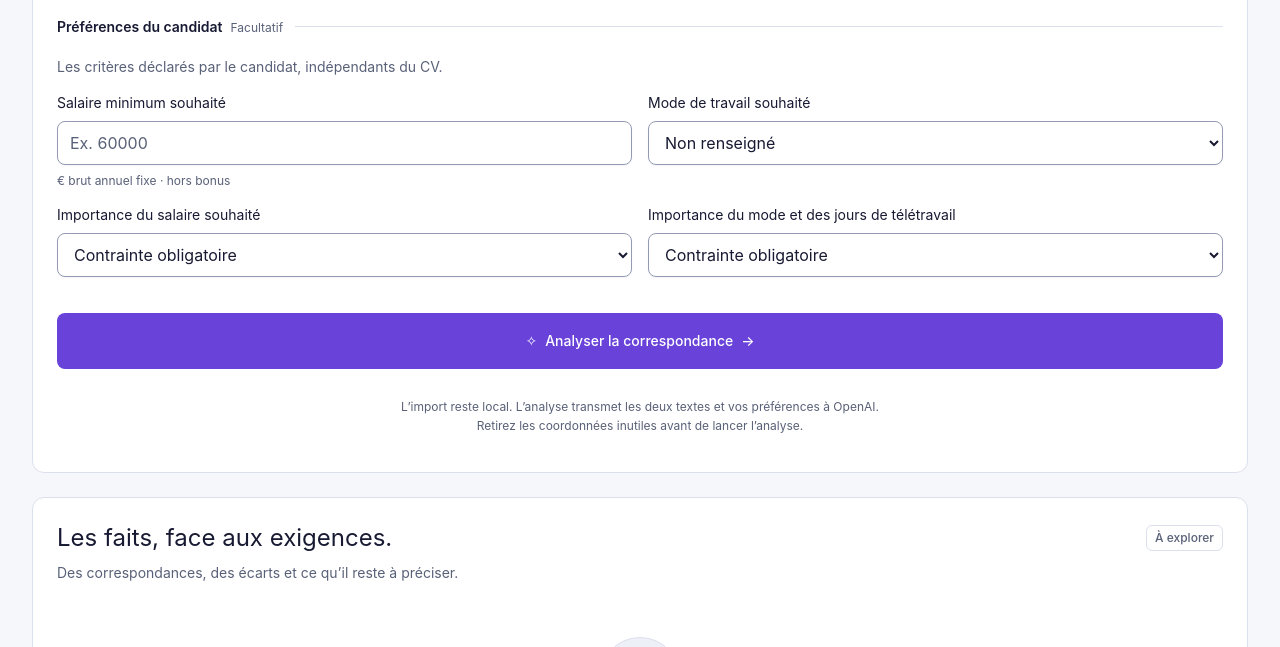
Scenario: Provider failure is visible and never automatically retried (fake HTTP)
The width and height of the screenshot is (1280, 647).
(page scrolled)
Click the button "✧ Analyser la correspondance →". click: x=640, y=341
box: [57,313,1223,369]
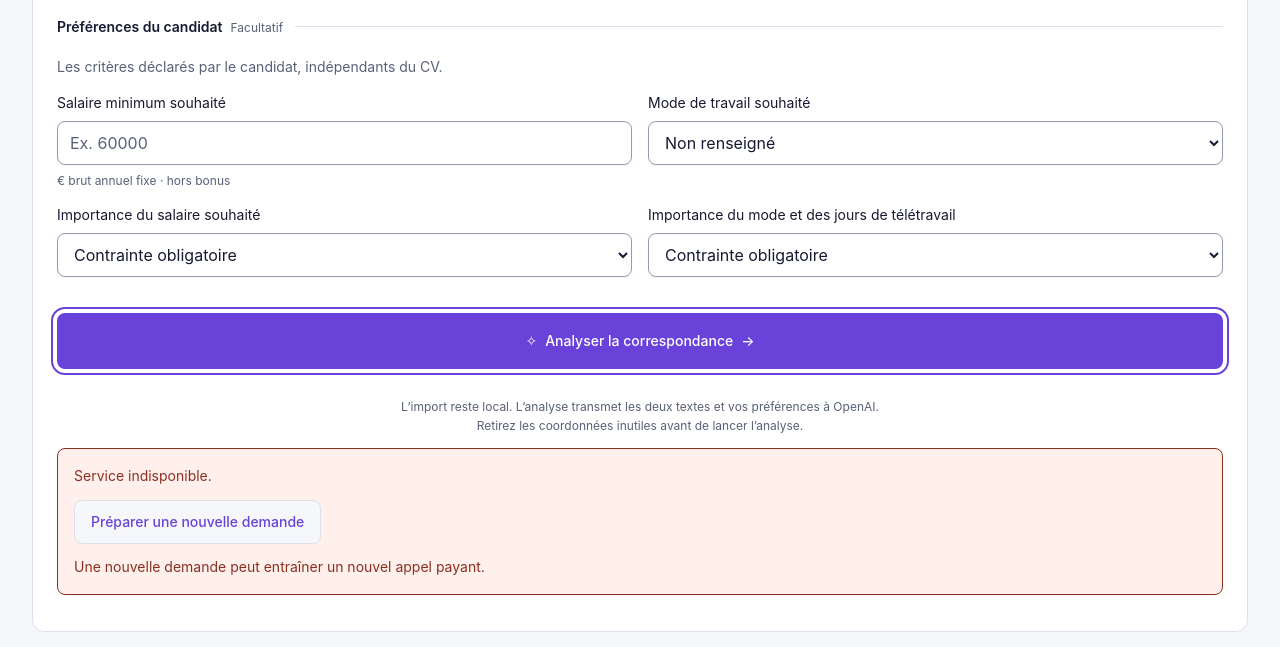
Expected: the message that starts with "Service indisponible." is shown, [57,448,1223,595]
Expected: the text "Service indisponible." is shown, [74,467,212,484]
